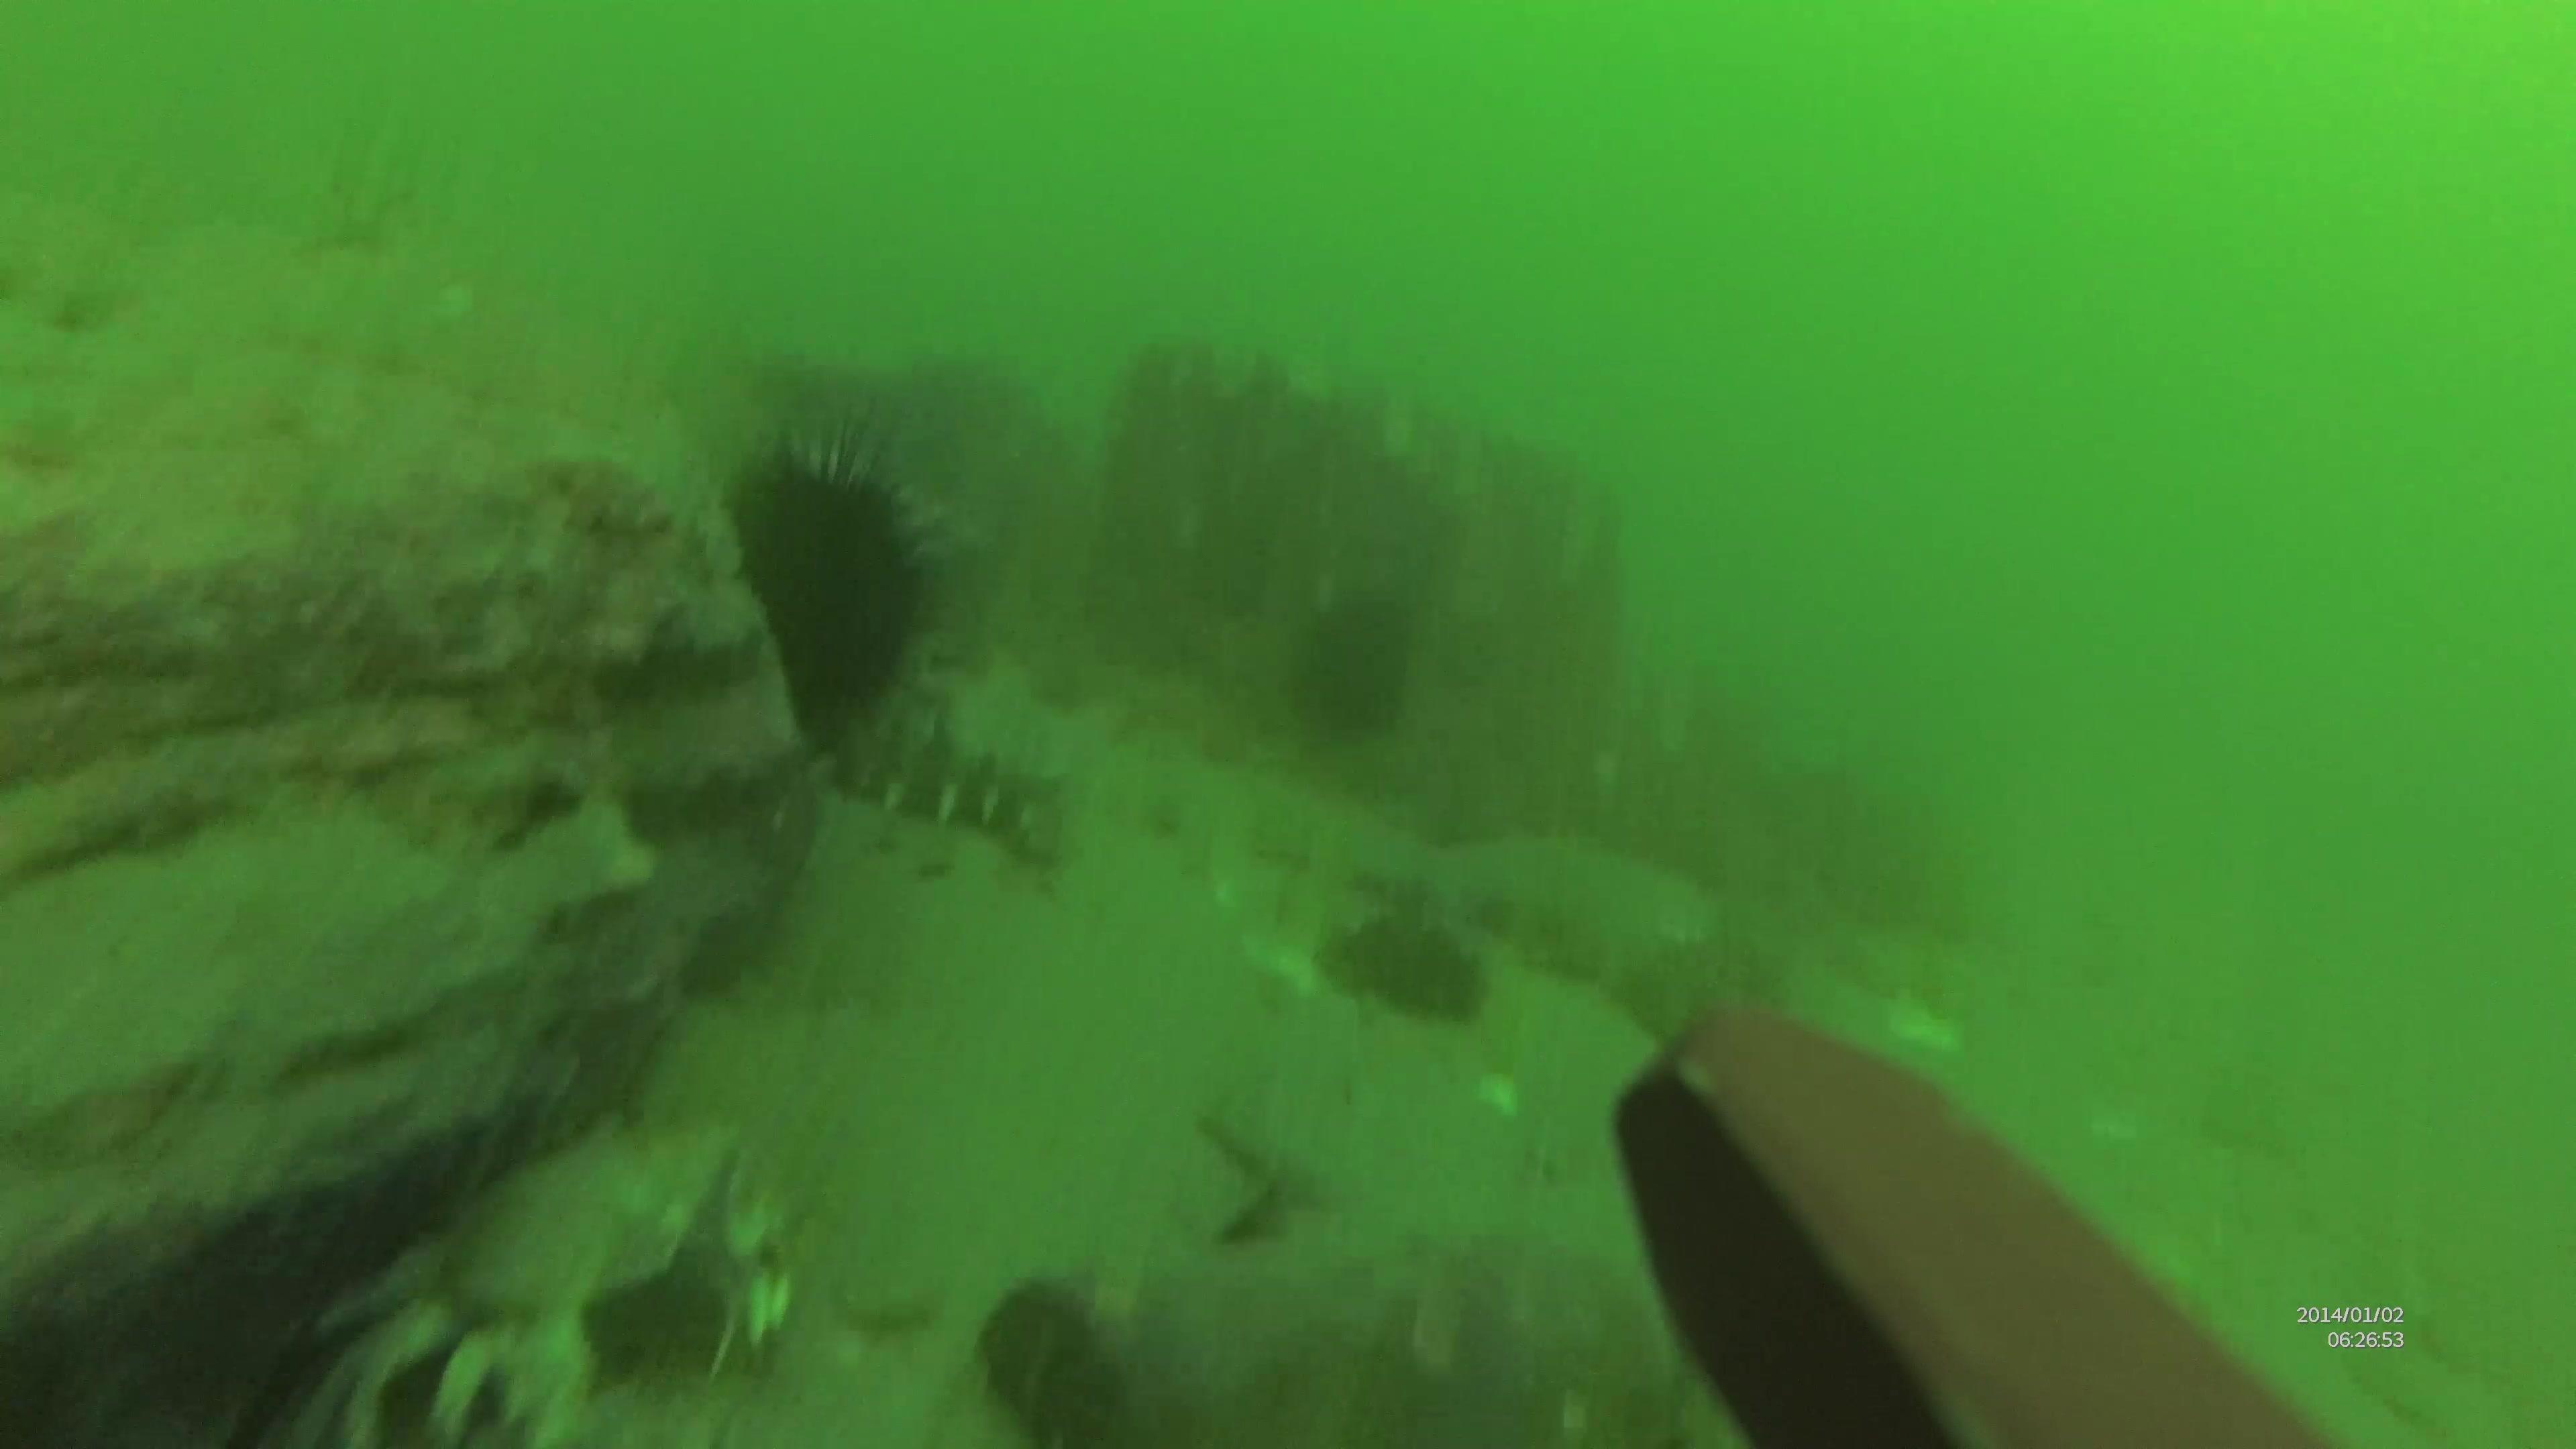echinus: (708, 430, 957, 748), (1299, 591, 1438, 771)
holothurian: (743, 717, 1072, 865)
